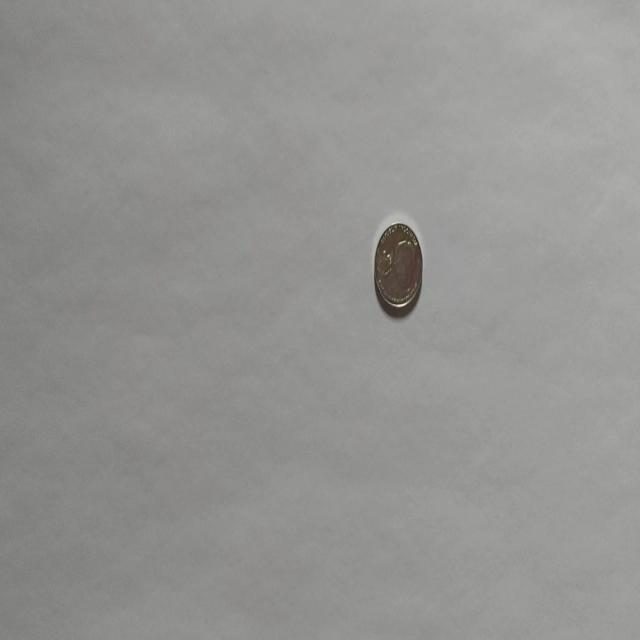seratus rupiah: (373, 220, 423, 316)
